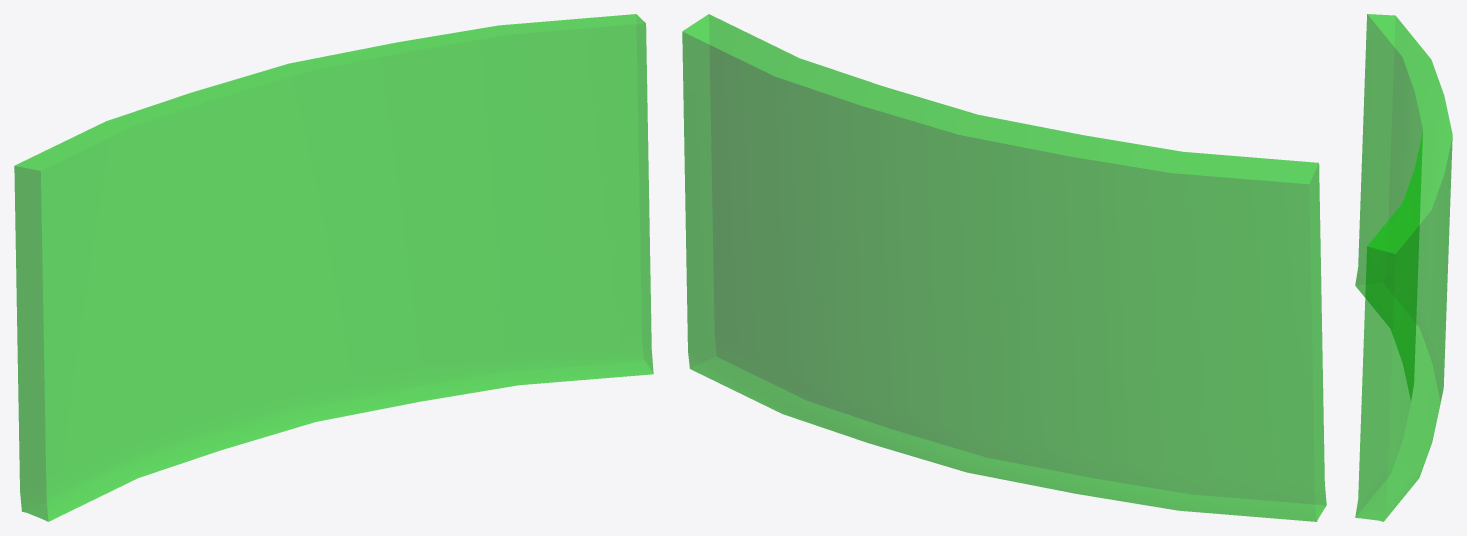
Rendered from display_00v2.fbx.
3 renders of one model, left to right at view 1: azimuth 30°, elevation 25°; view 2: azimuth 150°, elevation 25°; view 3: azimuth 270°, elevation 25°, orthographic. The views are drawn at different scales.
Parts seen in each view (by area): view 1: polySurface1; view 2: polySurface1; view 3: polySurface1.
Boxes of the visible parts, x1,y1,x2,y2 form: polySurface1: (14, 14, 653, 521); polySurface1: (682, 14, 1326, 521); polySurface1: (1355, 14, 1452, 521).
Bounding box in the file's own units: 19.41 × 10.34 × 3.36.
